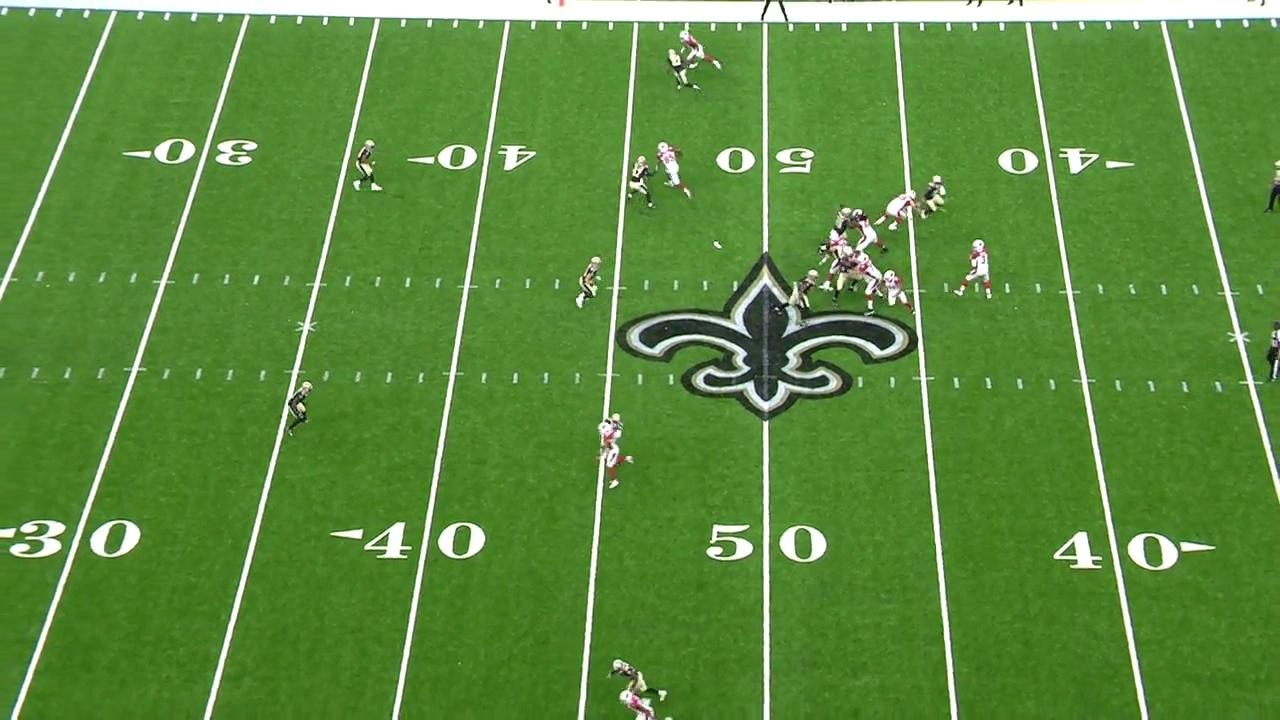defense: (775, 264, 822, 325), (608, 656, 669, 698), (280, 376, 314, 439), (663, 45, 698, 98), (570, 253, 604, 307), (352, 135, 383, 193), (625, 155, 656, 211), (922, 174, 950, 221), (832, 247, 857, 299), (826, 203, 856, 246), (600, 412, 625, 438)
oline: (872, 188, 916, 232), (820, 229, 851, 290), (858, 250, 885, 317), (854, 212, 892, 259)
qb: (957, 239, 996, 298)
ref: (1261, 318, 1280, 388), (1264, 153, 1280, 216)
skill: (595, 424, 635, 494), (653, 139, 694, 200), (615, 687, 681, 720), (677, 30, 725, 71), (879, 271, 916, 317)
